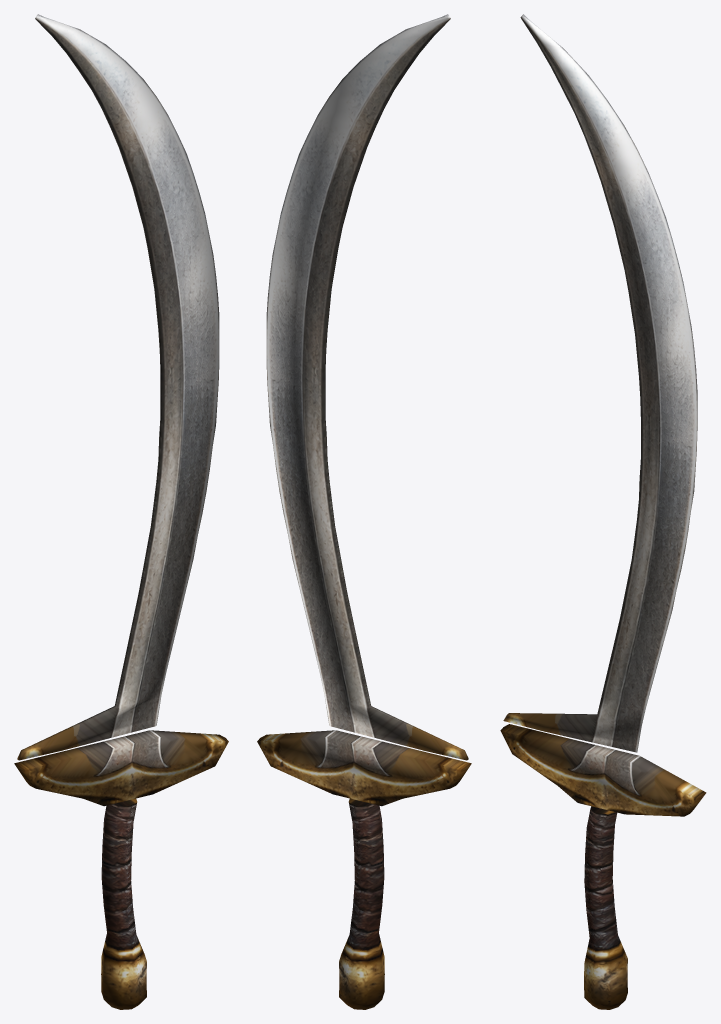
Rendered from mm7_m222_sword.glb.
The picture shows the model from 3 angles, left to right: view 1: azimuth 30°, elevation 25°; view 2: azimuth 150°, elevation 25°; view 3: azimuth 330°, elevation 25°; orthographic projection. The views are drawn at different scales.
Parts seen in each view (by area): view 1: Sword; view 2: Sword; view 3: Sword.
Part boxes in pixels (x1,y1,x2,y2): Sword: (14, 14, 228, 1009); Sword: (257, 14, 471, 1009); Sword: (500, 14, 706, 1009).
Size of the model in its own units: 0.2043 by 0.948 by 0.04.
1 material, 1 textured.
